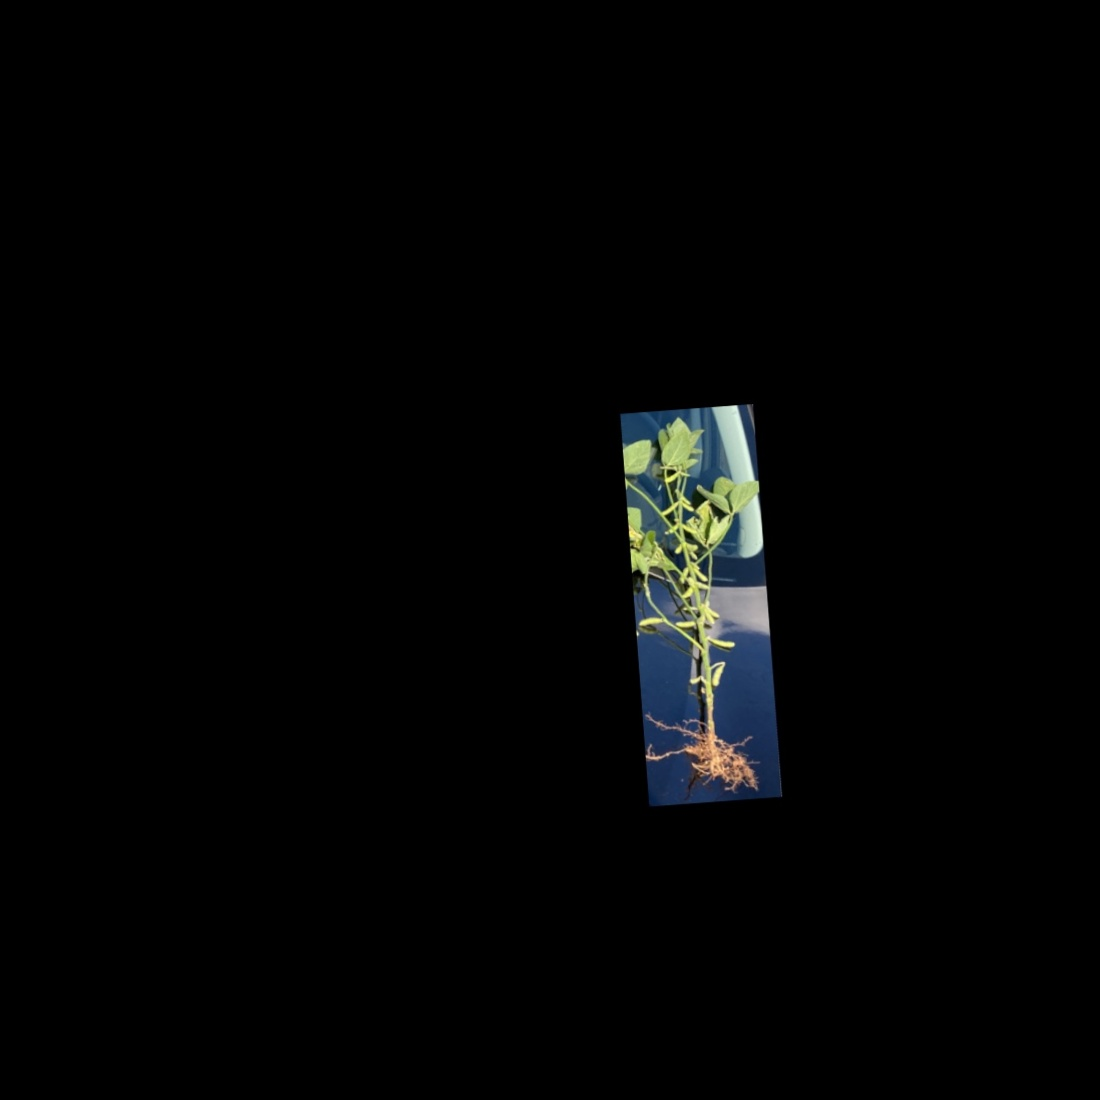pod: (708, 633, 739, 653), (686, 561, 710, 586), (709, 662, 728, 688), (656, 500, 680, 517), (637, 614, 666, 628), (661, 469, 682, 485), (672, 618, 700, 630), (678, 499, 696, 516)
soy: (623, 415, 781, 793)
